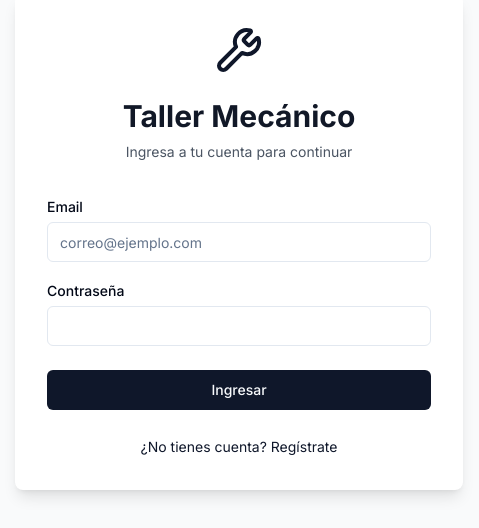
Test: LoginPage - QA Automation Testing › Form Validation › should show error for empty password
This screenshot has width=479, height=528.
Type "test@example.com" into the field labelled "Email".
click(239, 242); type("test@example.com")  # box [47, 222, 431, 262]
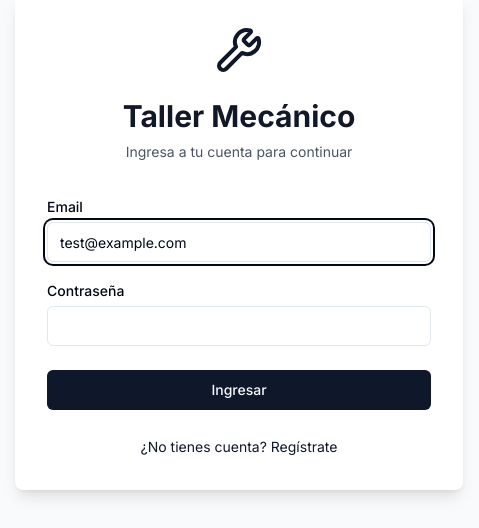
Click the button "Ingresar".
click(239, 390)  # box [47, 370, 431, 410]
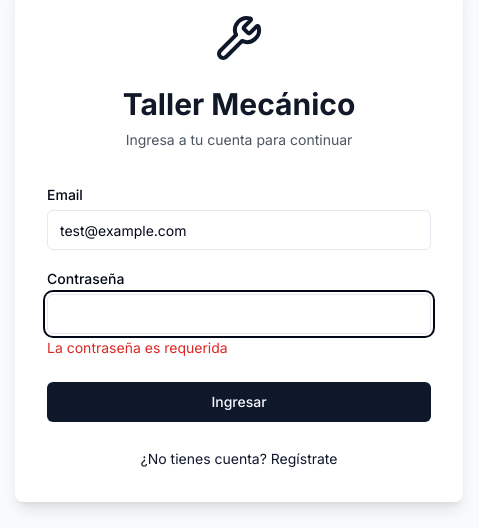
expect the text "La contraseña es requerida" is shown: met, box [47, 339, 228, 356]
